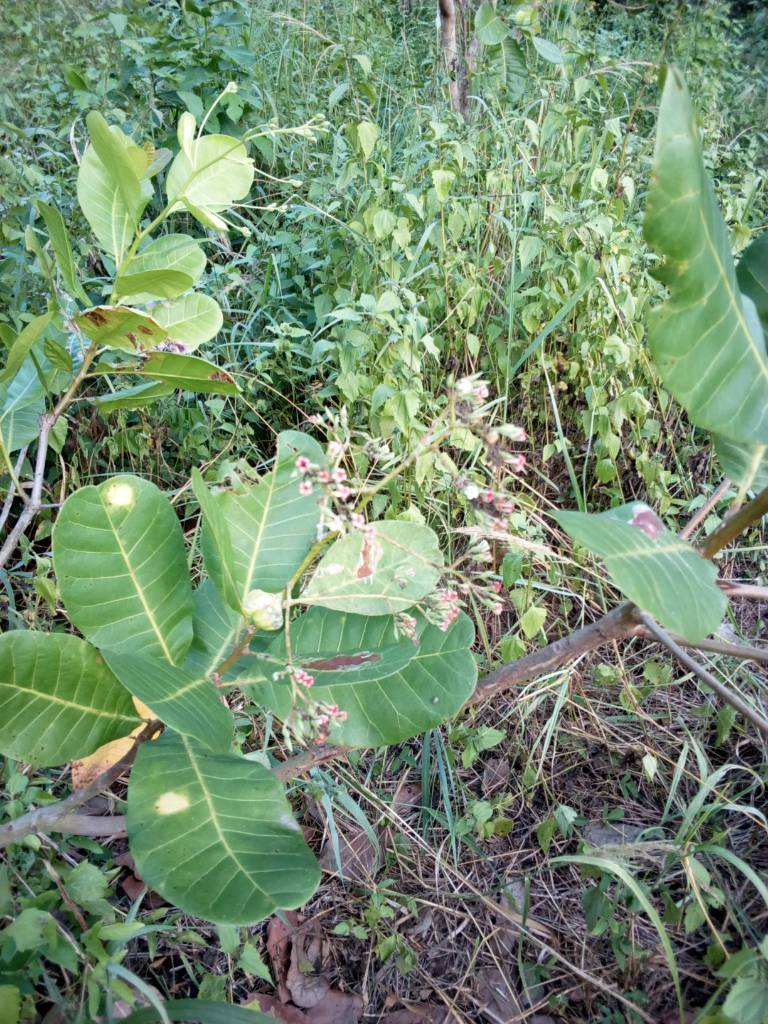Dysdercus wolkerii: (525, 488, 765, 652), (283, 514, 471, 627)
